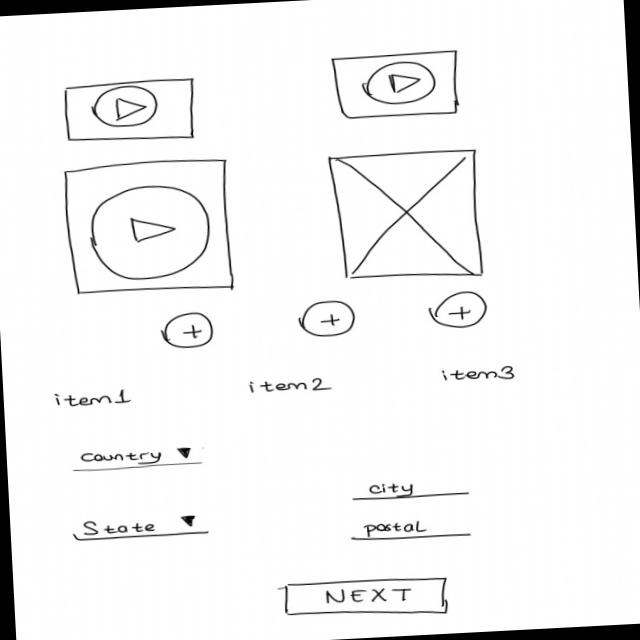button: (273, 573, 455, 626)
icon-button: (428, 291, 492, 333), (299, 300, 360, 341), (162, 311, 221, 353)
image: (328, 146, 494, 287)
input: (348, 512, 481, 548), (349, 473, 478, 507)
label: (240, 371, 339, 401), (50, 385, 139, 413), (430, 363, 532, 387)
select: (68, 440, 209, 477), (69, 510, 211, 546)
